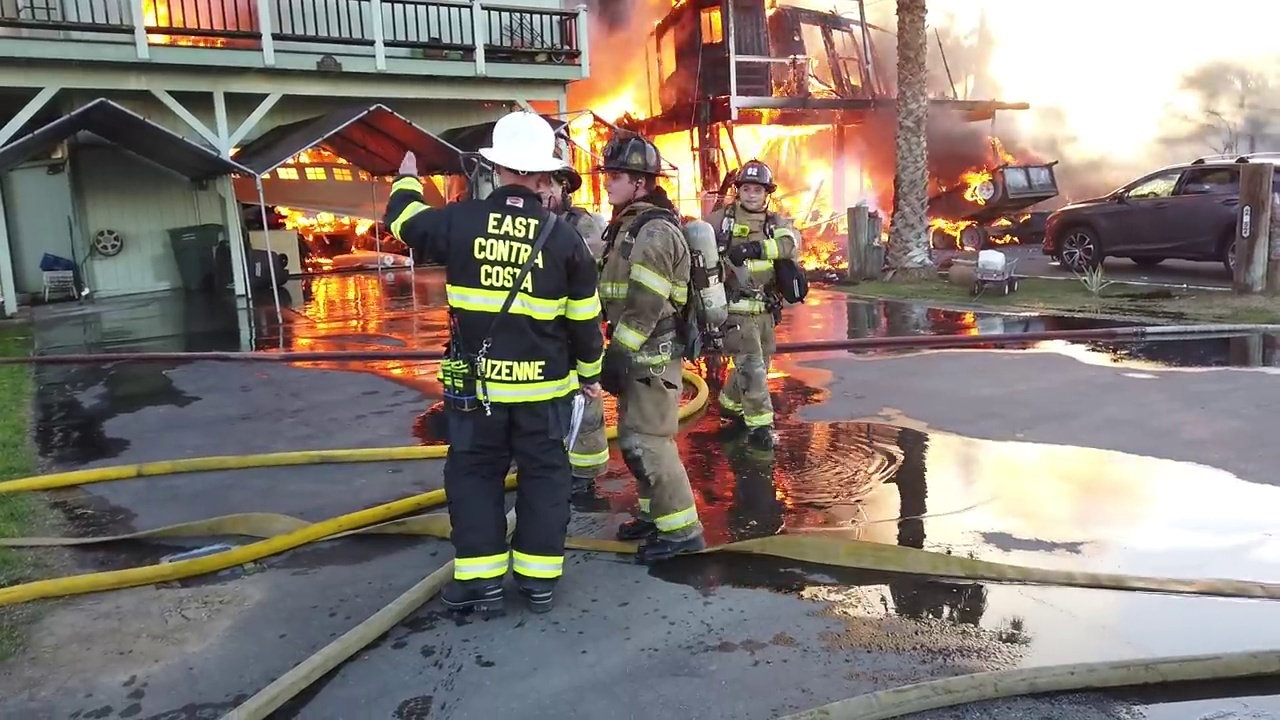fire: (729, 101, 836, 224), (276, 201, 375, 271), (564, 100, 613, 212), (602, 46, 675, 119), (654, 127, 703, 215), (793, 222, 851, 279), (281, 159, 369, 194), (140, 1, 187, 48), (925, 220, 983, 255), (821, 1, 900, 25), (983, 214, 1027, 254), (841, 157, 882, 197), (697, 1, 729, 41), (761, 1, 781, 19), (1020, 205, 1036, 219)
smoke: (850, 17, 1016, 173), (1024, 62, 1204, 159), (562, 1, 675, 90), (923, 1, 1018, 45), (192, 1, 261, 35)
